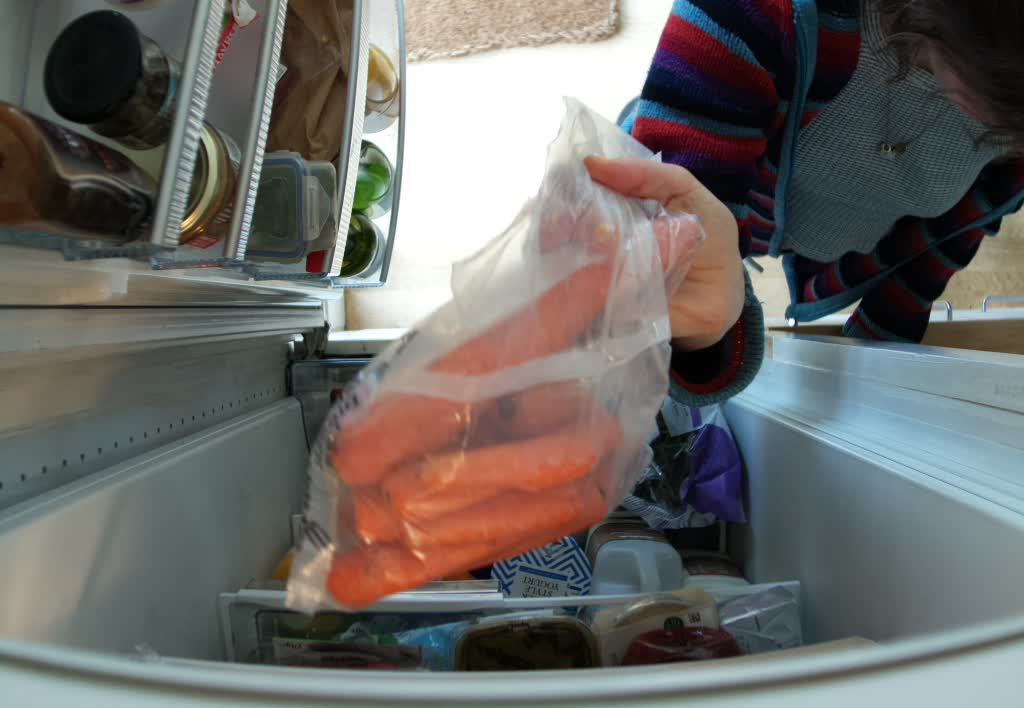carrot: (322, 247, 649, 615)
